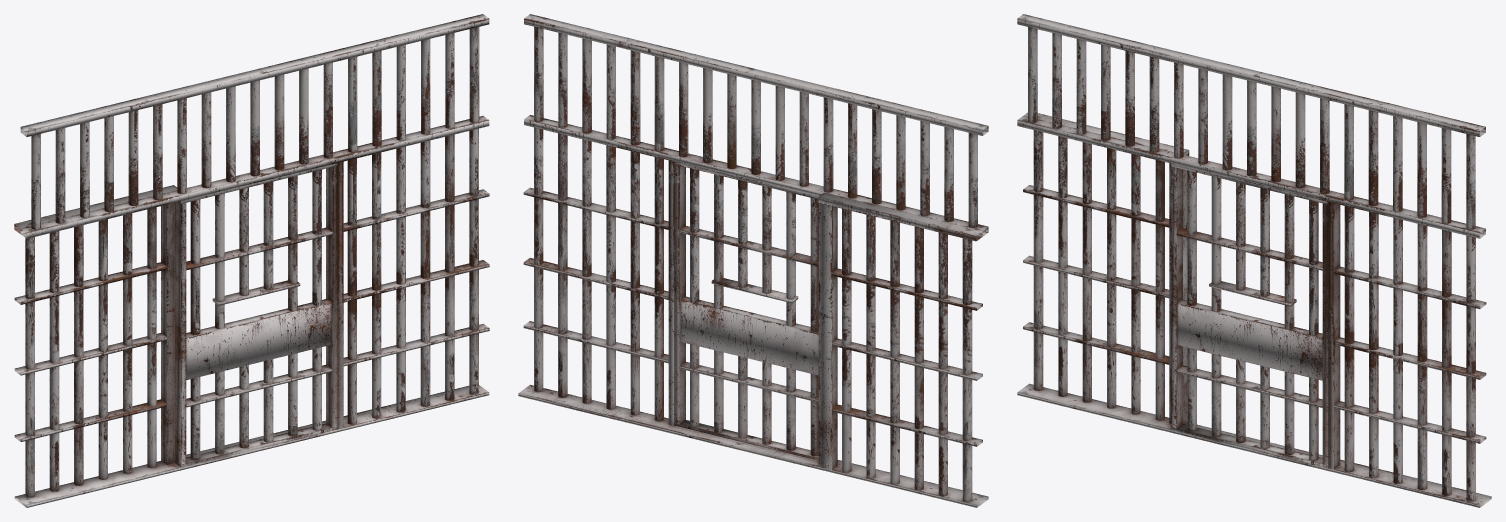
The model's file is prison_cell_door.glb.
The picture shows the model from 3 angles, left to right: view 1: azimuth 30°, elevation 25°; view 2: azimuth 150°, elevation 25°; view 3: azimuth 330°, elevation 25°; orthographic projection.
Visible parts, largest first — view 1: Bars; view 2: Bars; view 3: Bars.
Boxes of the visible parts, x1,y1,x2,y2 form: Bars: (14,14,489,507); Bars: (518,14,988,507); Bars: (1017,14,1491,507).
Size of the model in its own units: 3.87 by 3.01 by 0.1817.
1 material, 1 textured.
